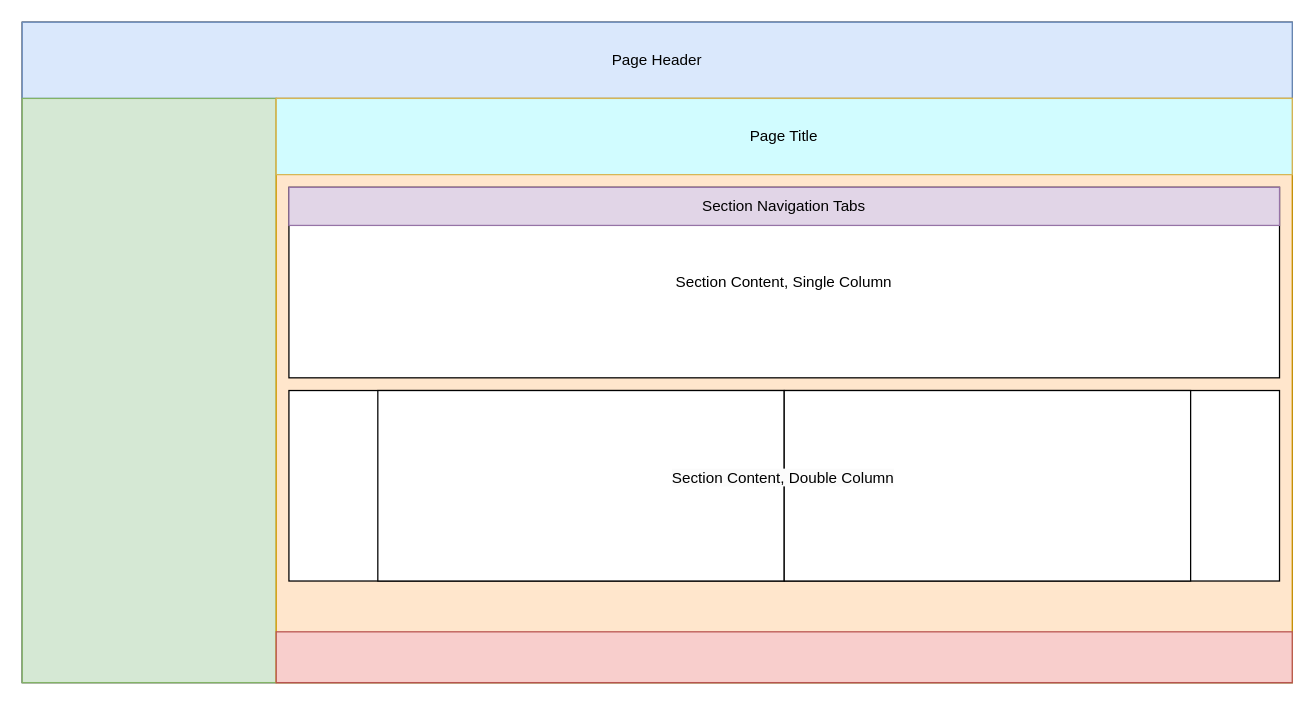
Some shapes in this 1314 by 705 pixel diagram are drawn without their labels. The centre of each missing label's shape, as x and y in pixels:
"Navigation" goes at [148,390].
"Page Footer" goes at [783,657].
